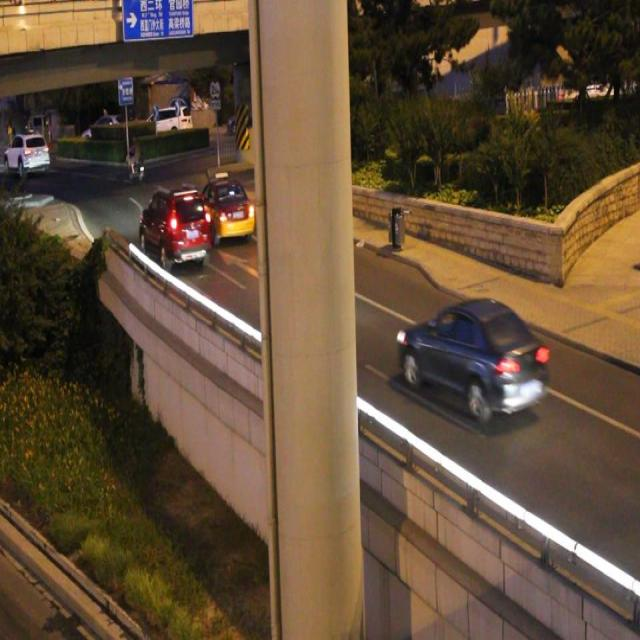car: (395, 296, 547, 420), (137, 186, 212, 269), (188, 172, 254, 244)
